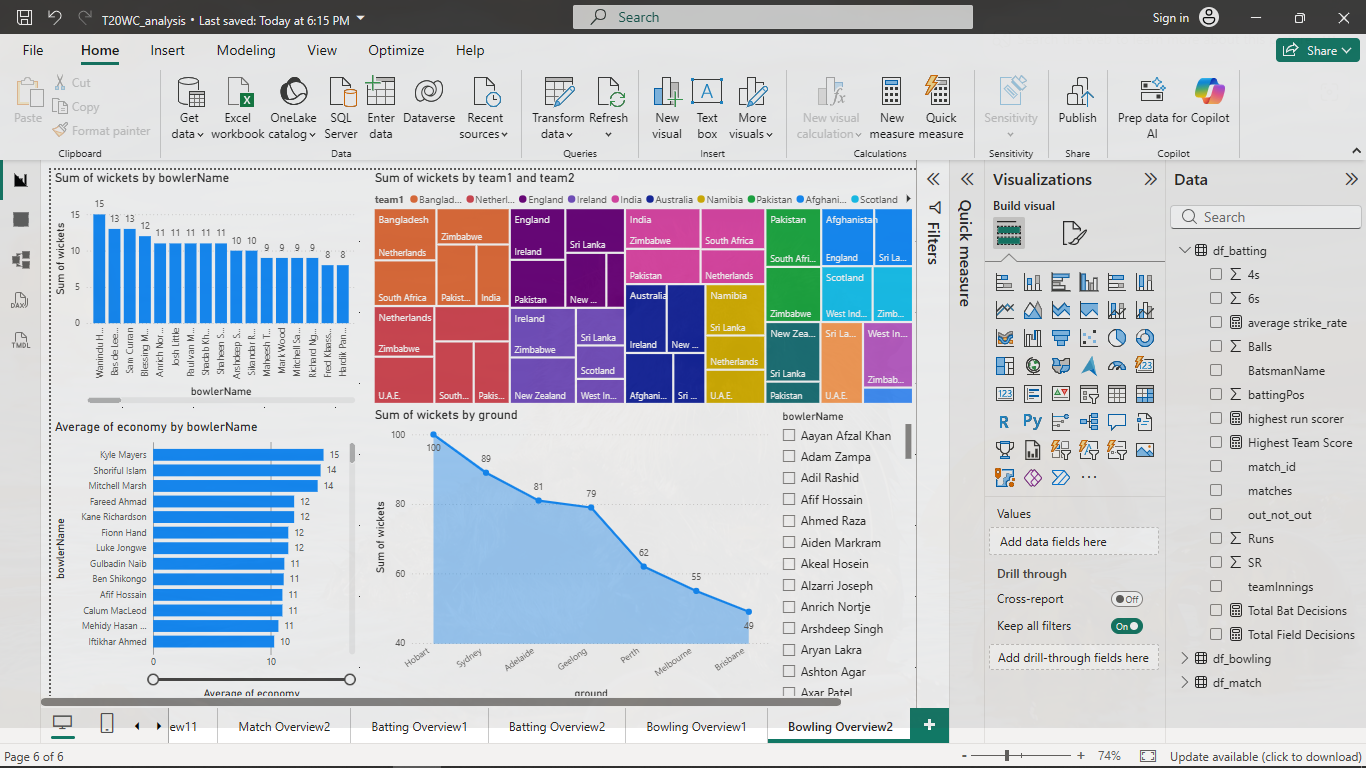

The page's visual inventory and layout, read from the dashboard file:
{"tool":"powerbi","page":{"name":"Bowling Overview2","canvas":[1280,720],"ordinal":5},"visuals":[{"type":"columnChart","fields":{"Y":["Sum(df_bowling.wickets)"],"Category":["df_bowling.bowlerName"]},"box":[0,0,416,320],"z":0},{"type":"clusteredBarChart","fields":{"Category":["df_bowling.bowlerName"],"Y":["Avg(df_bowling.economy)"]},"box":[0,336,416,384],"z":1000},{"type":"slicer","fields":{"Values":["df_bowling.bowlerName"]},"box":[976,320,192,400],"z":2000},{"type":"treemap","fields":{"Values":["Sum(df_bowling.wickets)"],"Group":["df_match.team1"],"Details":["df_match.team2"]},"box":[432,0,736,320],"z":3000},{"type":"lineChart","fields":{"Y":["Sum(df_bowling.wickets)"],"Category":["df_match.ground"]},"box":[432,320,544,400],"z":4000}]}

Visuals, with their boxes on the page's 1280x720 design canvas (x1, y1, x2, y2). These are canvas units, not pixel positions in the 1366x768 screenshot, which may show the page scaled, cropped or inside an application window:
columnChart - Sum(df_bowling.wickets) x df_bowling.bowlerName: select_region(0, 0, 416, 320)
clusteredBarChart - df_bowling.bowlerName x Avg(df_bowling.economy): select_region(0, 336, 416, 720)
slicer - df_bowling.bowlerName: select_region(976, 320, 1168, 720)
treemap - Sum(df_bowling.wickets) x df_match.team1: select_region(432, 0, 1168, 320)
lineChart - Sum(df_bowling.wickets) x df_match.ground: select_region(432, 320, 976, 720)
